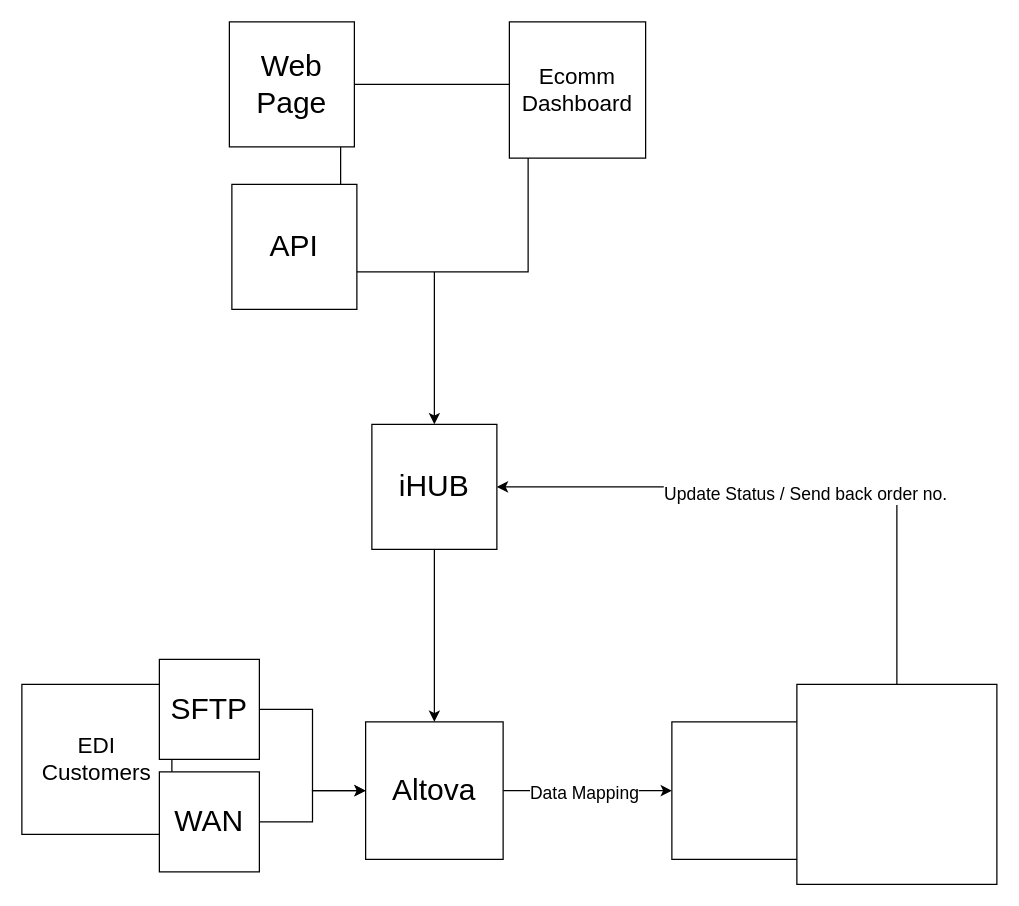
The diagram is 1019 pixels wide and 906 high, and some of its shapes have lost their labels. The box of each missing label's shape, as (x1, y1, x2, y2) in pixels:
BPCS: (796, 683, 997, 884)
ECM: (671, 721, 809, 859)
ECOM: (339, 83, 528, 272)
